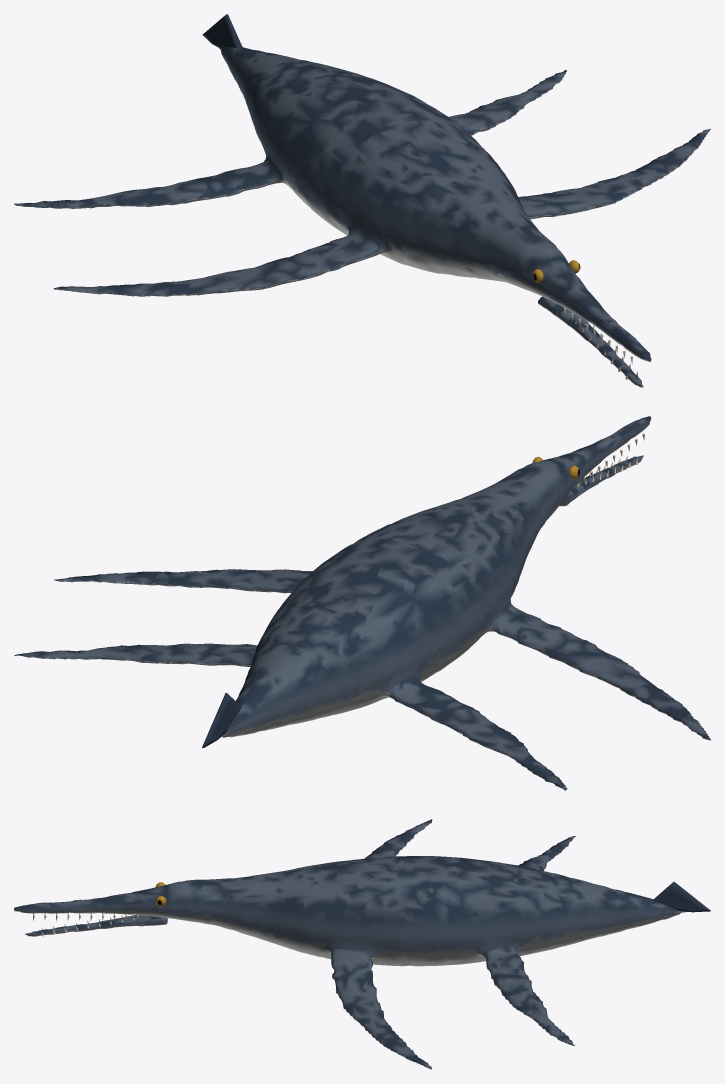
File: Dolichorhynchops.fbx
The picture shows the model from 3 angles, top to bottom: view 1: azimuth 30°, elevation 25°; view 2: azimuth 150°, elevation 25°; view 3: azimuth 270°, elevation 25°; orthographic projection. The views are drawn at different scales.
Visible parts, largest first — view 1: Dolichorhynchops; view 2: Dolichorhynchops; view 3: Dolichorhynchops.
Boxes of the visible parts, <box> form: Dolichorhynchops: <box>14,14,710,387</box>; Dolichorhynchops: <box>14,416,710,790</box>; Dolichorhynchops: <box>14,819,710,1069</box>.
Size of the model in its own units: 1.28 by 0.2197 by 1.51.
